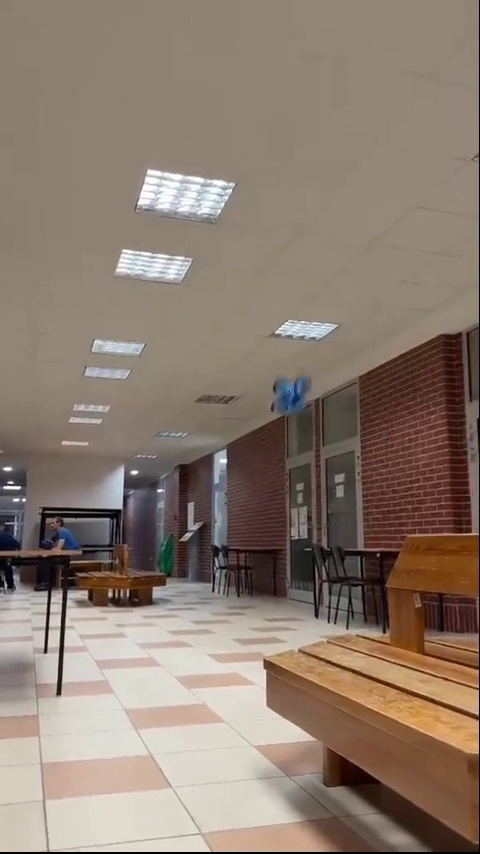drone: (277, 373, 310, 417)
no vest: (42, 518, 80, 581)
